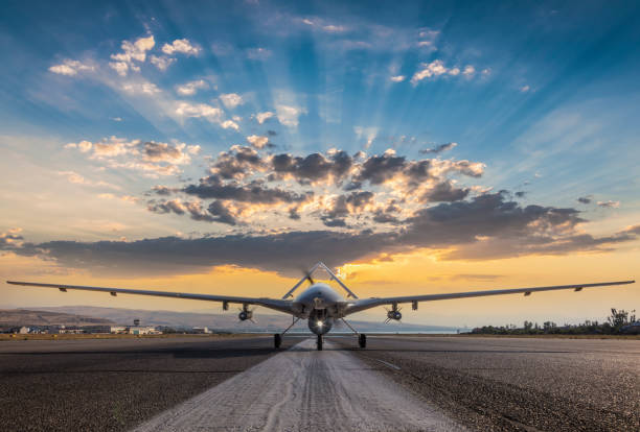military drone: (5, 260, 635, 350)
